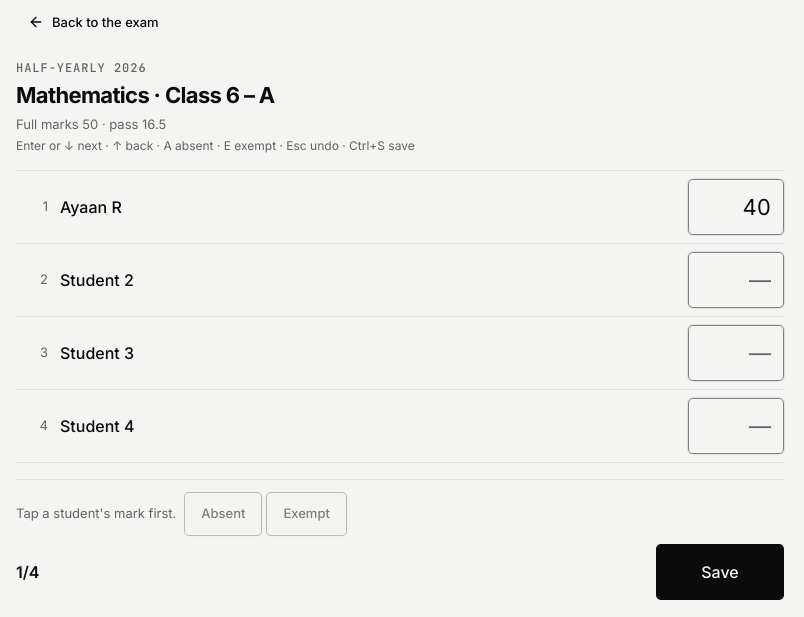
Test case: MarksEntry › the Absent/Exempt chips act on the focused student
The width and height of the screenshot is (804, 617).
Focus the field named "Student 2" at [736, 280], box x1=688 y1=252 x2=784 y2=308
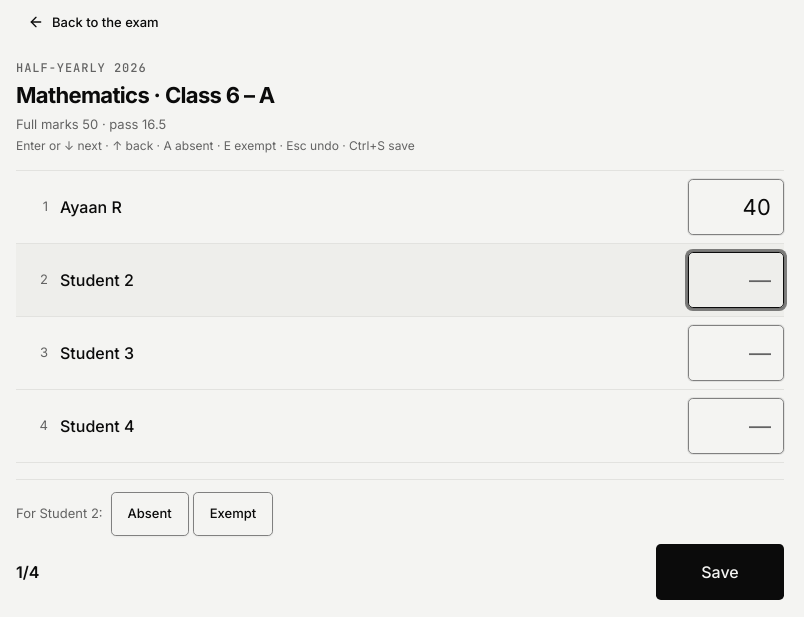
Expected: the text "For Student 2:" is shown, x1=16 y1=504 x2=103 y2=523
Click the radio button labelled "Exempt" at [233, 514], box x1=193 y1=492 x2=273 y2=536
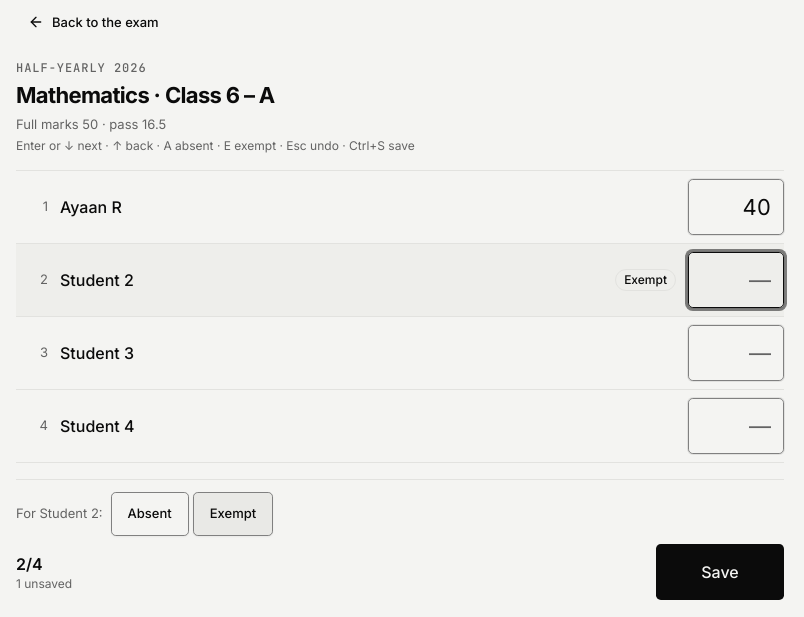
Expected: the text "Exempt" is shown, x1=615 y1=268 x2=676 y2=290
